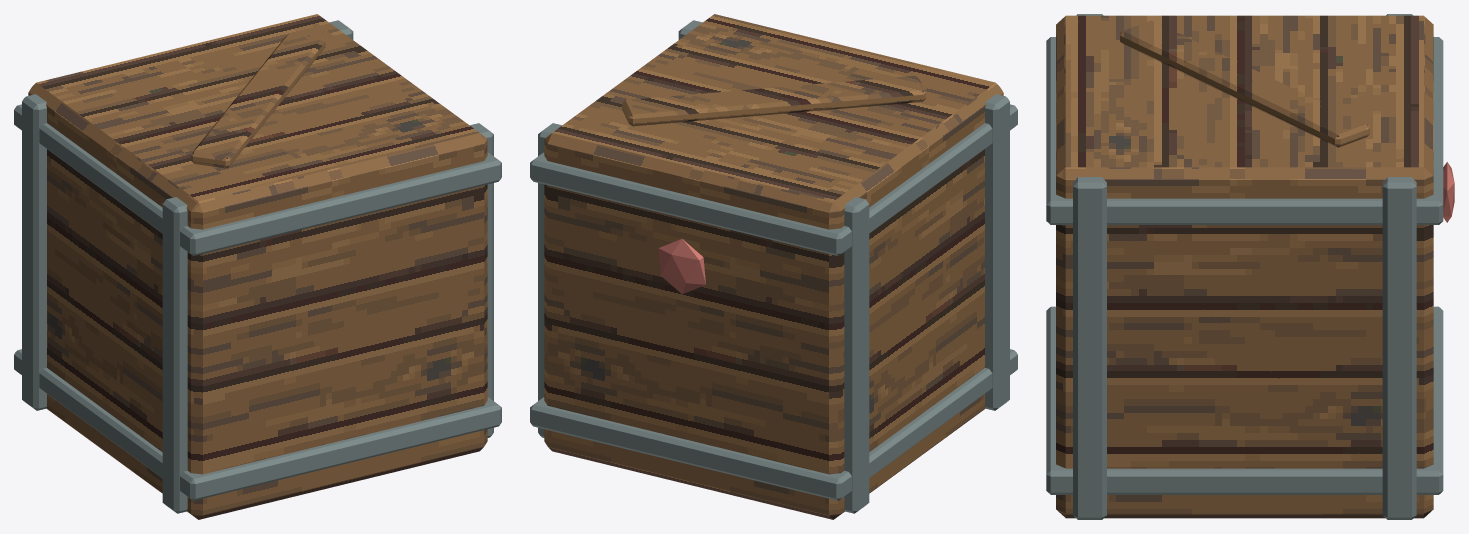
The model's file is caixa.glb.
3 renders of one model, left to right at view 1: azimuth 30°, elevation 25°; view 2: azimuth 150°, elevation 25°; view 3: azimuth 270°, elevation 25°, orthographic. The views are drawn at different scales.
Parts seen in each view (by area): view 1: pedreira_caixa; view 2: pedreira_caixa; view 3: pedreira_caixa.
Part boxes in pixels (x1,y1,x2,y2): pedreira_caixa: (14, 14, 501, 519); pedreira_caixa: (530, 14, 1017, 519); pedreira_caixa: (1046, 14, 1454, 519).
Size of the model in its own units: 0.842 by 0.832 by 0.8433.
3 materials, 1 textured.
